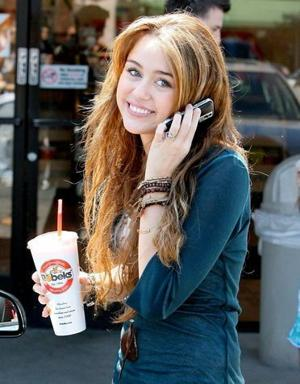person: (32, 14, 252, 384)
